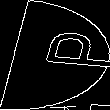P_W: (7, 33, 103, 77)
